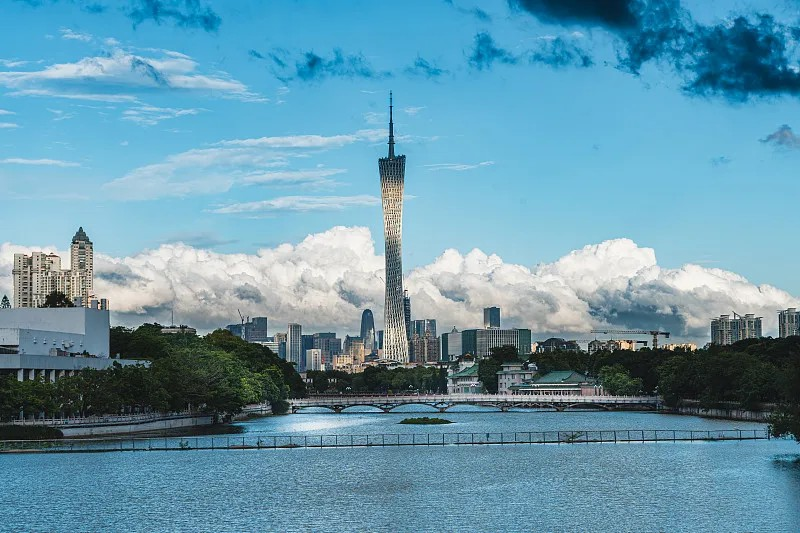Canton: (376, 89, 410, 362)
